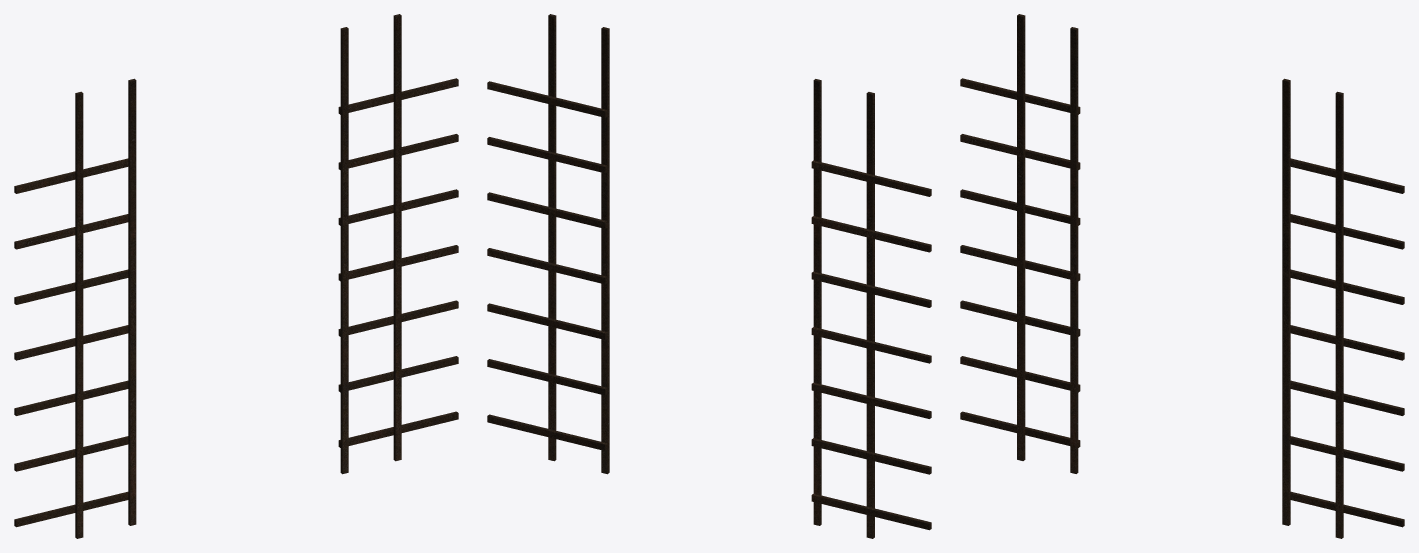
The model's file is bars_metal_1.glb.
3 renders of one model, left to right at view 1: azimuth 30°, elevation 25°; view 2: azimuth 150°, elevation 25°; view 3: azimuth 330°, elevation 25°, orthographic.
Parts seen in each view (by area): view 1: bars_metal_1; view 2: bars_metal_1; view 3: bars_metal_1.
Boxes of the visible parts, bbox=[...] form: bars_metal_1: bbox=[14, 14, 458, 538]; bars_metal_1: bbox=[487, 14, 931, 538]; bars_metal_1: bbox=[960, 14, 1404, 538].
Size of the model in its own units: 2.5 by 2.4 by 0.04.
Materials: 1 (1 with a texture image).
